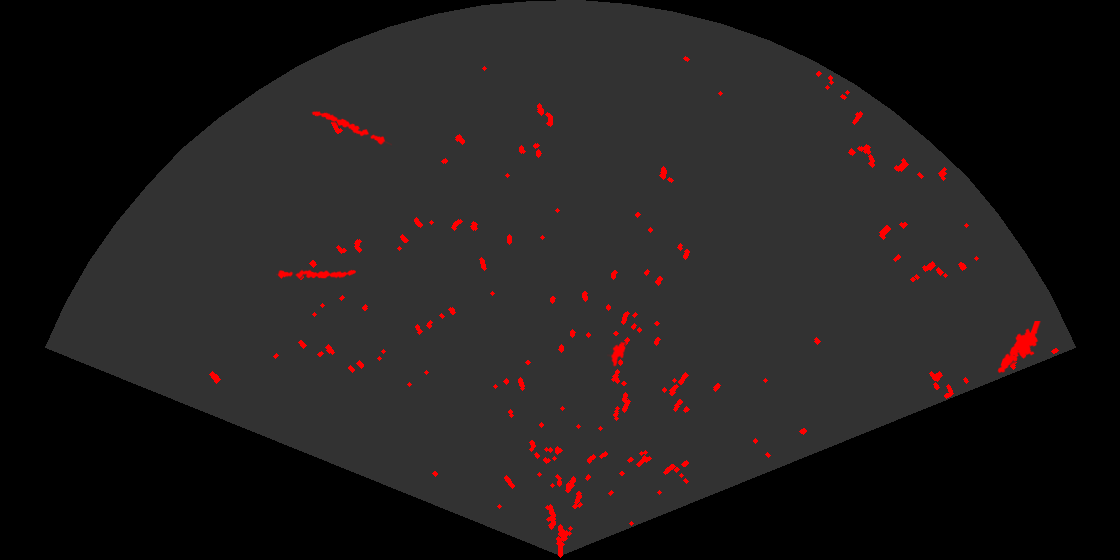AUV: (607, 340, 627, 368)
chain: (310, 109, 392, 147), (276, 268, 356, 281)
frogman: (996, 321, 1042, 375)
